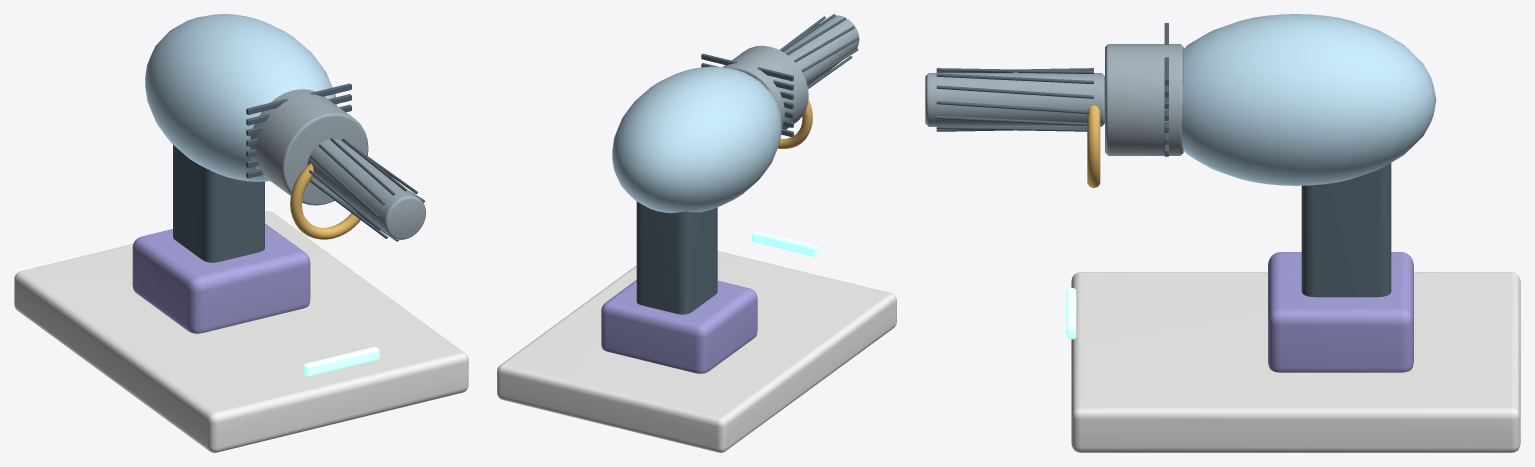
File: sampling_drill.glb
3 renders of one model, left to right at view 1: azimuth 30°, elevation 25°; view 2: azimuth 150°, elevation 25°; view 3: azimuth 270°, elevation 25°, orthographic. The views are drawn at different scales.
Parts seen in each view (by area): view 1: Drill_Dock, Drill_Housing, Battery, Drill_Grip, Chuck, Core_Bit, Drill_Service_Collar, Drill_Battery_Indicator, Drill_Vent6; view 2: Drill_Dock, Drill_Housing, Battery, Drill_Grip, Chuck, Core_Bit, Drill_Battery_Indicator, Drill_Service_Collar, Drill_Vent6; view 3: Drill_Dock, Drill_Housing, Battery, Drill_Grip, Chuck, Core_Bit, Drill_Service_Collar, Cutting_Flute1, Cutting_Flute2, Cutting_Flute3, Cutting_Flute0, Cutting_Flute11 (+1 smaller).
Part boxes in pixels (x1=…): Drill_Dock: x1=14, y1=211, x2=468, y2=452; Drill_Housing: x1=145, y1=14, x2=336, y2=181; Battery: x1=132, y1=223, x2=310, y2=333; Drill_Grip: x1=173, y1=145, x2=264, y2=262; Chuck: x1=249, y1=89, x2=368, y2=205; Core_Bit: x1=307, y1=139, x2=425, y2=239; Drill_Service_Collar: x1=290, y1=163, x2=360, y2=239; Drill_Battery_Indicator: x1=303, y1=347, x2=379, y2=376; Drill_Vent6: x1=246, y1=83, x2=351, y2=114; Drill_Dock: x1=497, y1=251, x2=896, y2=452; Drill_Housing: x1=612, y1=66, x2=781, y2=213; Battery: x1=601, y1=280, x2=757, y2=373; Drill_Grip: x1=636, y1=201, x2=717, y2=314; Chuck: x1=722, y1=45, x2=808, y2=129; Core_Bit: x1=782, y1=15, x2=859, y2=85; Drill_Battery_Indicator: x1=751, y1=230, x2=818, y2=256; Drill_Service_Collar: x1=778, y1=99, x2=812, y2=148; Drill_Vent6: x1=701, y1=53, x2=793, y2=81; Drill_Dock: x1=1071, y1=272, x2=1520, y2=452; Drill_Housing: x1=1181, y1=14, x2=1436, y2=185; Battery: x1=1268, y1=252, x2=1413, y2=372; Drill_Grip: x1=1301, y1=163, x2=1391, y2=297; Chuck: x1=1105, y1=44, x2=1183, y2=155; Core_Bit: x1=925, y1=73, x2=1104, y2=126; Drill_Service_Collar: x1=1087, y1=105, x2=1100, y2=188; Cutting_Flute1: x1=936, y1=85, x2=1093, y2=98; Cutting_Flute2: x1=936, y1=73, x2=1093, y2=84; Cutting_Flute3: x1=936, y1=68, x2=1093, y2=73; Cutting_Flute0: x1=936, y1=101, x2=1089, y2=113; Cutting_Flute11: x1=936, y1=115, x2=1087, y2=125.
Bounding box in the file's own units: 0.3 × 0.355 × 0.53.
